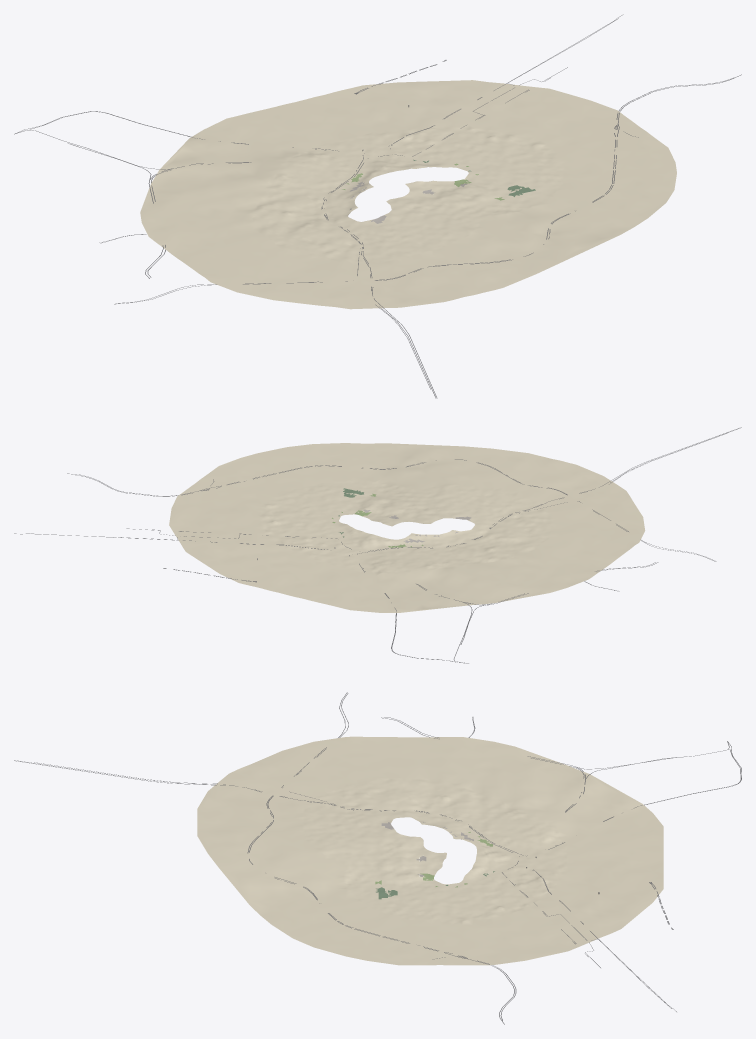
Rendered from backdrop.glb.
3 renders of one model, top to bottom at view 1: azimuth 30°, elevation 25°; view 2: azimuth 150°, elevation 25°; view 3: azimuth 270°, elevation 25°, orthographic. The views are drawn at different scales.
Parts seen in each view (by area): view 1: backdrop_terrain_sand, backdrop_road; view 2: backdrop_terrain_sand, backdrop_road; view 3: backdrop_terrain_sand, backdrop_road.
Part boxes in pixels (x1,y1,x2,y2): backdrop_terrain_sand: (140,80,676,309); backdrop_road: (14,14,741,398); backdrop_terrain_sand: (169,443,645,612); backdrop_road: (14,427,741,663); backdrop_terrain_sand: (197,736,663,965); backdrop_road: (14,692,741,1024).
Size of what is drawn, in the model's own units: 14637 by 113 by 13738.
